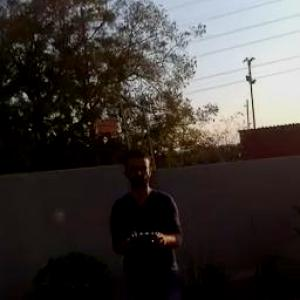follow: (106, 137, 185, 299)
